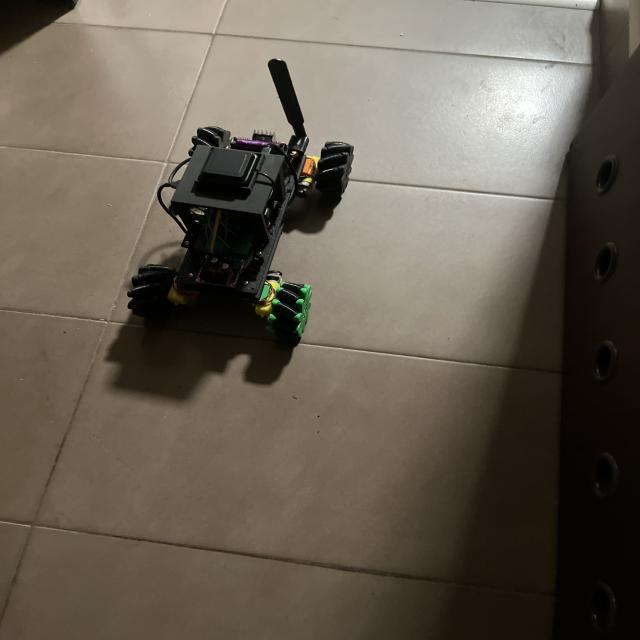robot: (127, 60, 354, 341)
